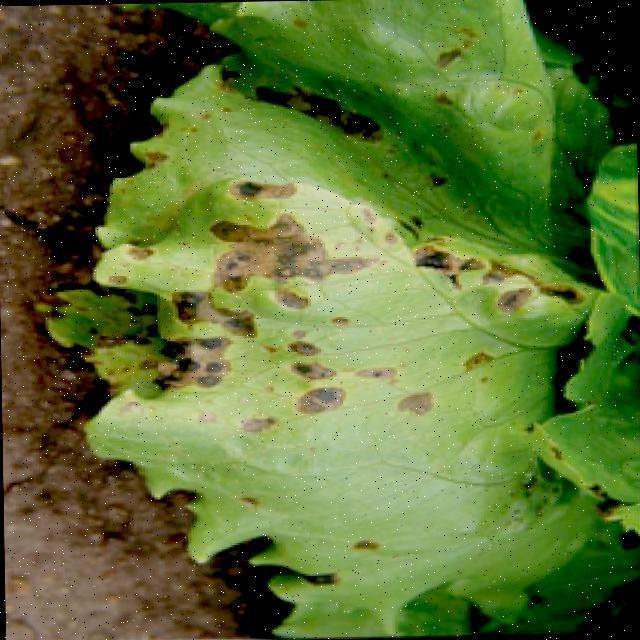Bacterial: (153, 194, 402, 428)
